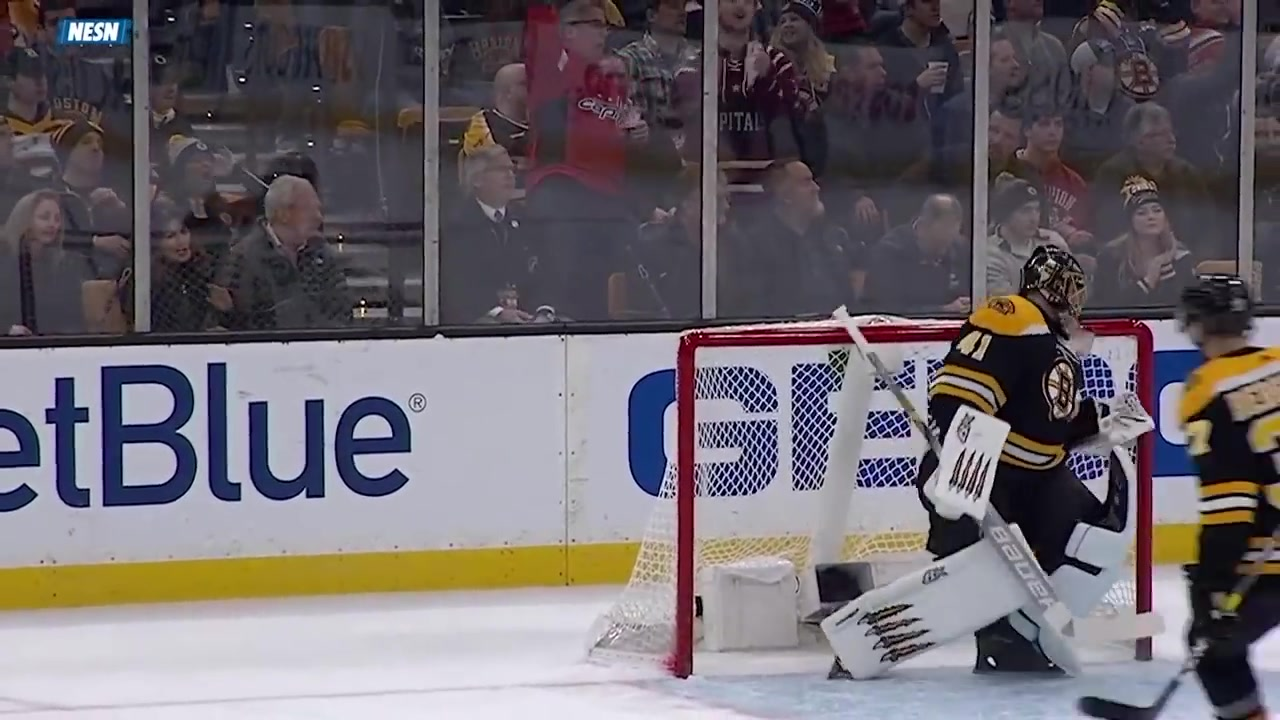Geico: (628, 334, 957, 500)
